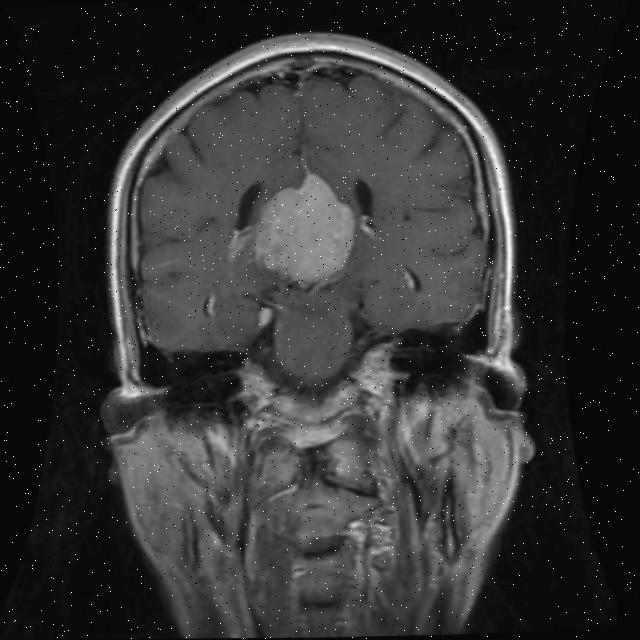Meningioma: (252, 171, 358, 284)
